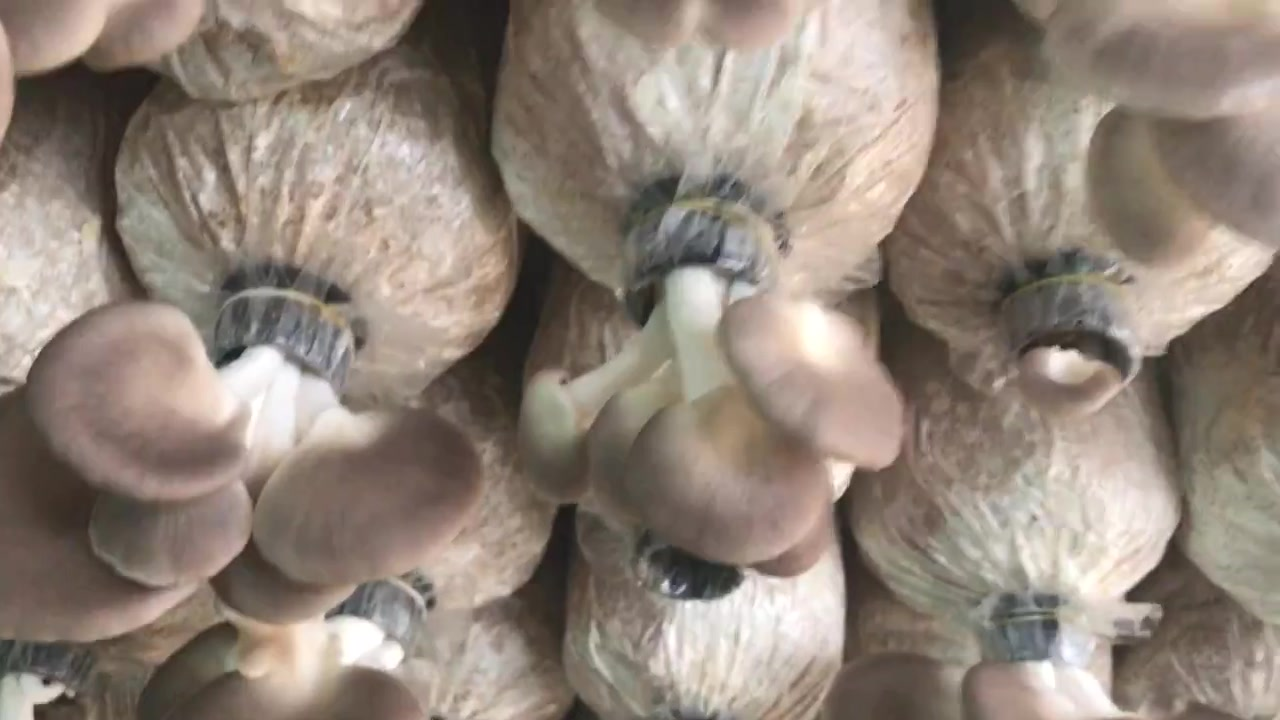nam: (1, 293, 480, 642), (518, 207, 902, 578), (1042, 1, 1274, 271), (140, 575, 444, 720), (823, 616, 1221, 720), (1, 1, 198, 138)
